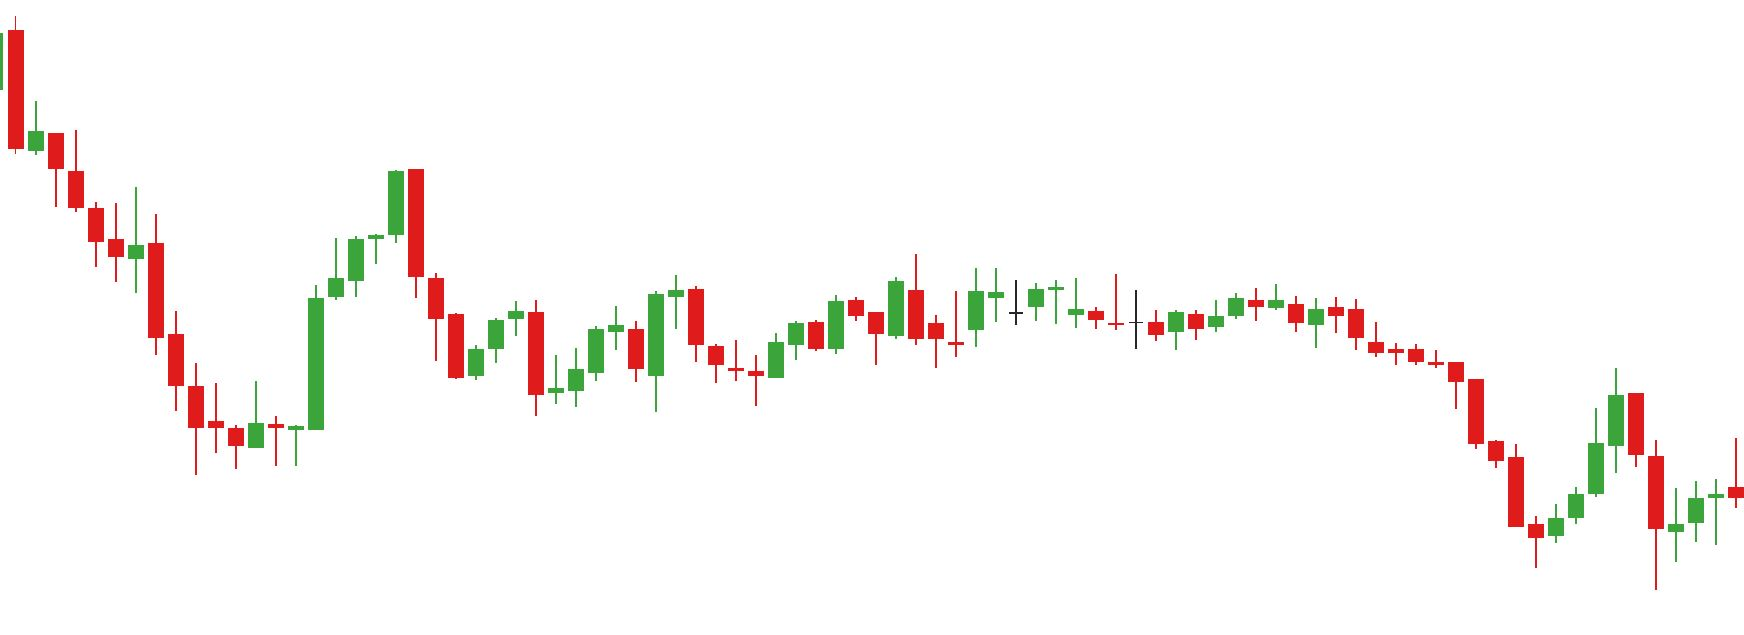buy: (448, 325, 584, 420)
